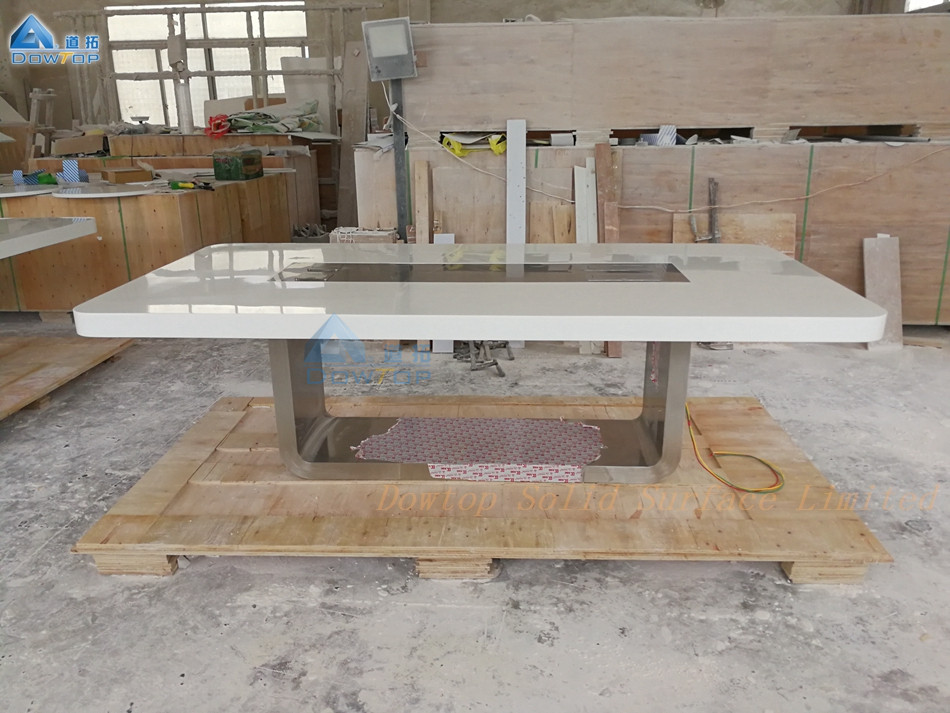conference_table: (69, 242, 888, 481)
